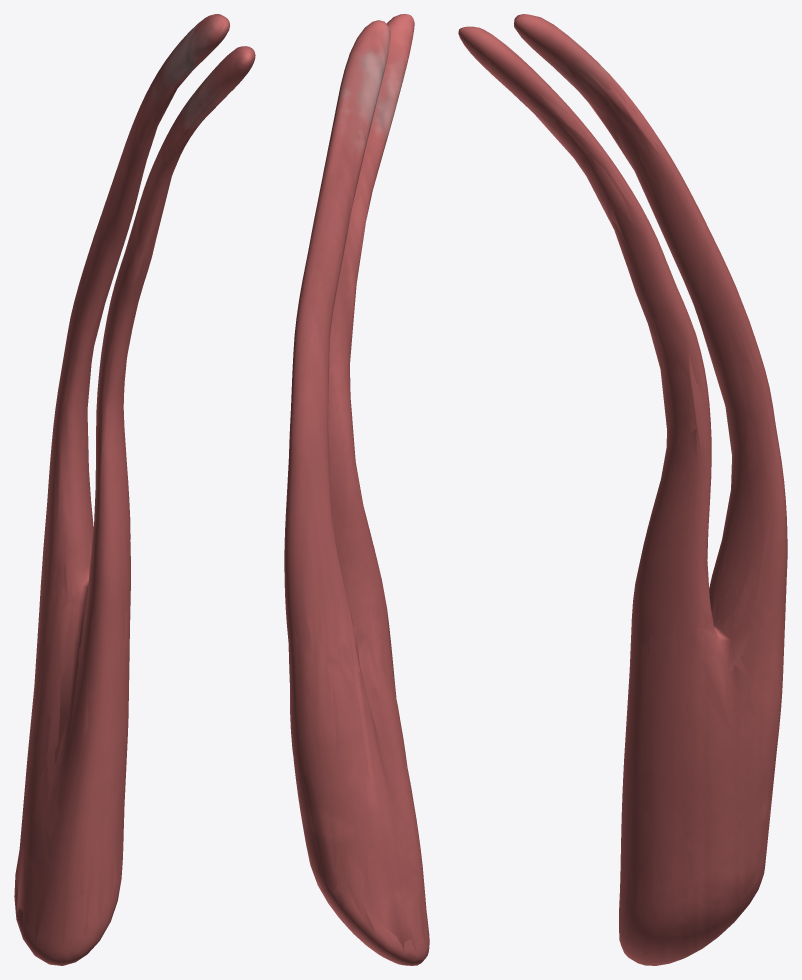
The model's file is Межпоперечная мышца R.fbx.
3 renders of one model, left to right at view 1: azimuth 30°, elevation 25°; view 2: azimuth 150°, elevation 25°; view 3: azimuth 270°, elevation 25°, orthographic. The views are drawn at different scales.
Visible parts, largest first — view 1: Межпоперечная мышца R high, Межпоперечная мышца R low, Межпоперечная мышца R; view 2: Межпоперечная мышца R high, Межпоперечная мышца R, Межпоперечная мышца R low; view 3: Межпоперечная мышца R, Межпоперечная мышца R high, Межпоперечная мышца R low.
Part boxes in pixels (x1,y1,x2,y2): Межпоперечная мышца R high: (14,14,255,965); Межпоперечная мышца R low: (16,30,253,958); Межпоперечная мышца R: (14,14,255,965); Межпоперечная мышца R high: (284,14,429,963); Межпоперечная мышца R: (284,14,429,965); Межпоперечная мышца R low: (288,16,426,962); Межпоперечная мышца R: (459,15,787,965); Межпоперечная мышца R high: (458,14,787,964); Межпоперечная мышца R low: (467,25,786,965).
Bounding box in the file's own units: 0.0928 × 0.6406 × 0.1914.
Materials: 1 (1 with a texture image).
